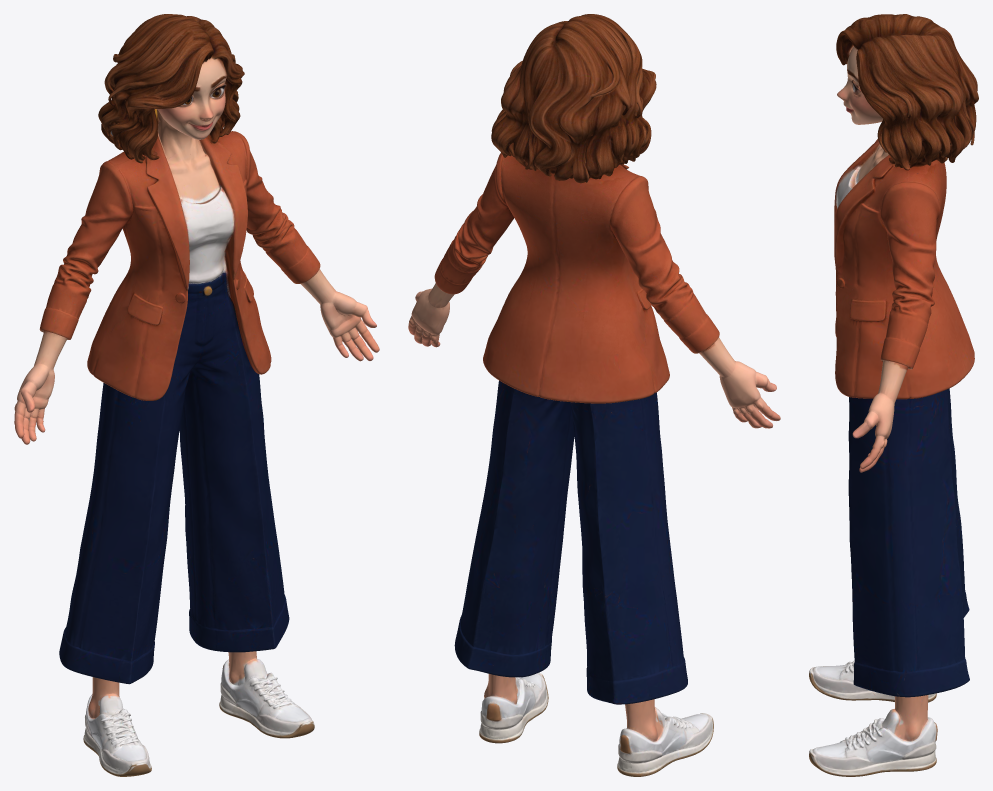
The model's file is woman.glb.
3 views of the same model, side by side, from view 1: azimuth 30°, elevation 25°; view 2: azimuth 150°, elevation 25°; view 3: azimuth 270°, elevation 25° (orthographic).
Visible parts, largest first — view 1: woman; view 2: woman; view 3: woman.
Part boxes in pixels (x1,y1,x2,y2): woman: (14,14,379,776); woman: (408,14,780,776); woman: (809,14,978,776).
Bounding box in the file's own units: 0.9043 × 1.7 × 0.3676.
1 material, 1 textured.
